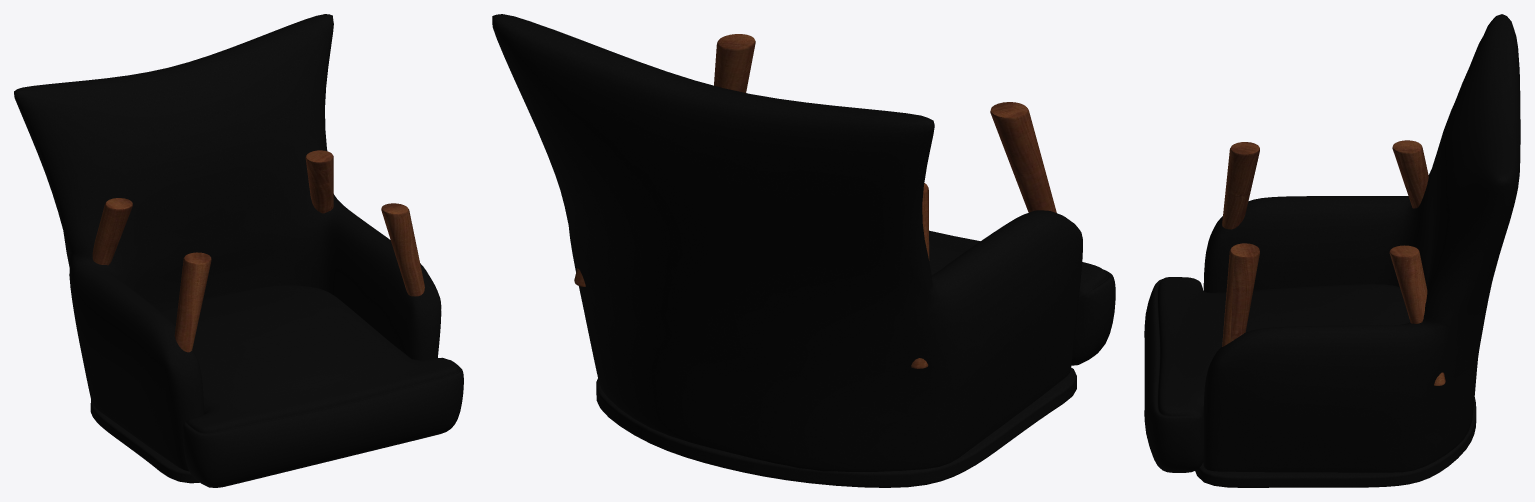
Rendered from armchair_2_processed.glb.
3 renders of one model, left to right at view 1: azimuth 30°, elevation 25°; view 2: azimuth 150°, elevation 25°; view 3: azimuth 270°, elevation 25°, orthographic. The views are drawn at different scales.
Visible parts, largest first — view 1: Object_3, Object_2; view 2: Object_3, Object_2; view 3: Object_3, Object_2.
Boxes of the visible parts, x1,y1,x2,y2 form: Object_3: (14,14,463,487); Object_2: (92,150,424,352); Object_3: (492,14,1115,487); Object_2: (574,34,1056,368); Object_3: (1144,14,1520,487); Object_2: (1222,140,1445,385).
Size of the model in its own units: 2261145 by 2043359 by 2149354.
2 materials, 2 textured.
